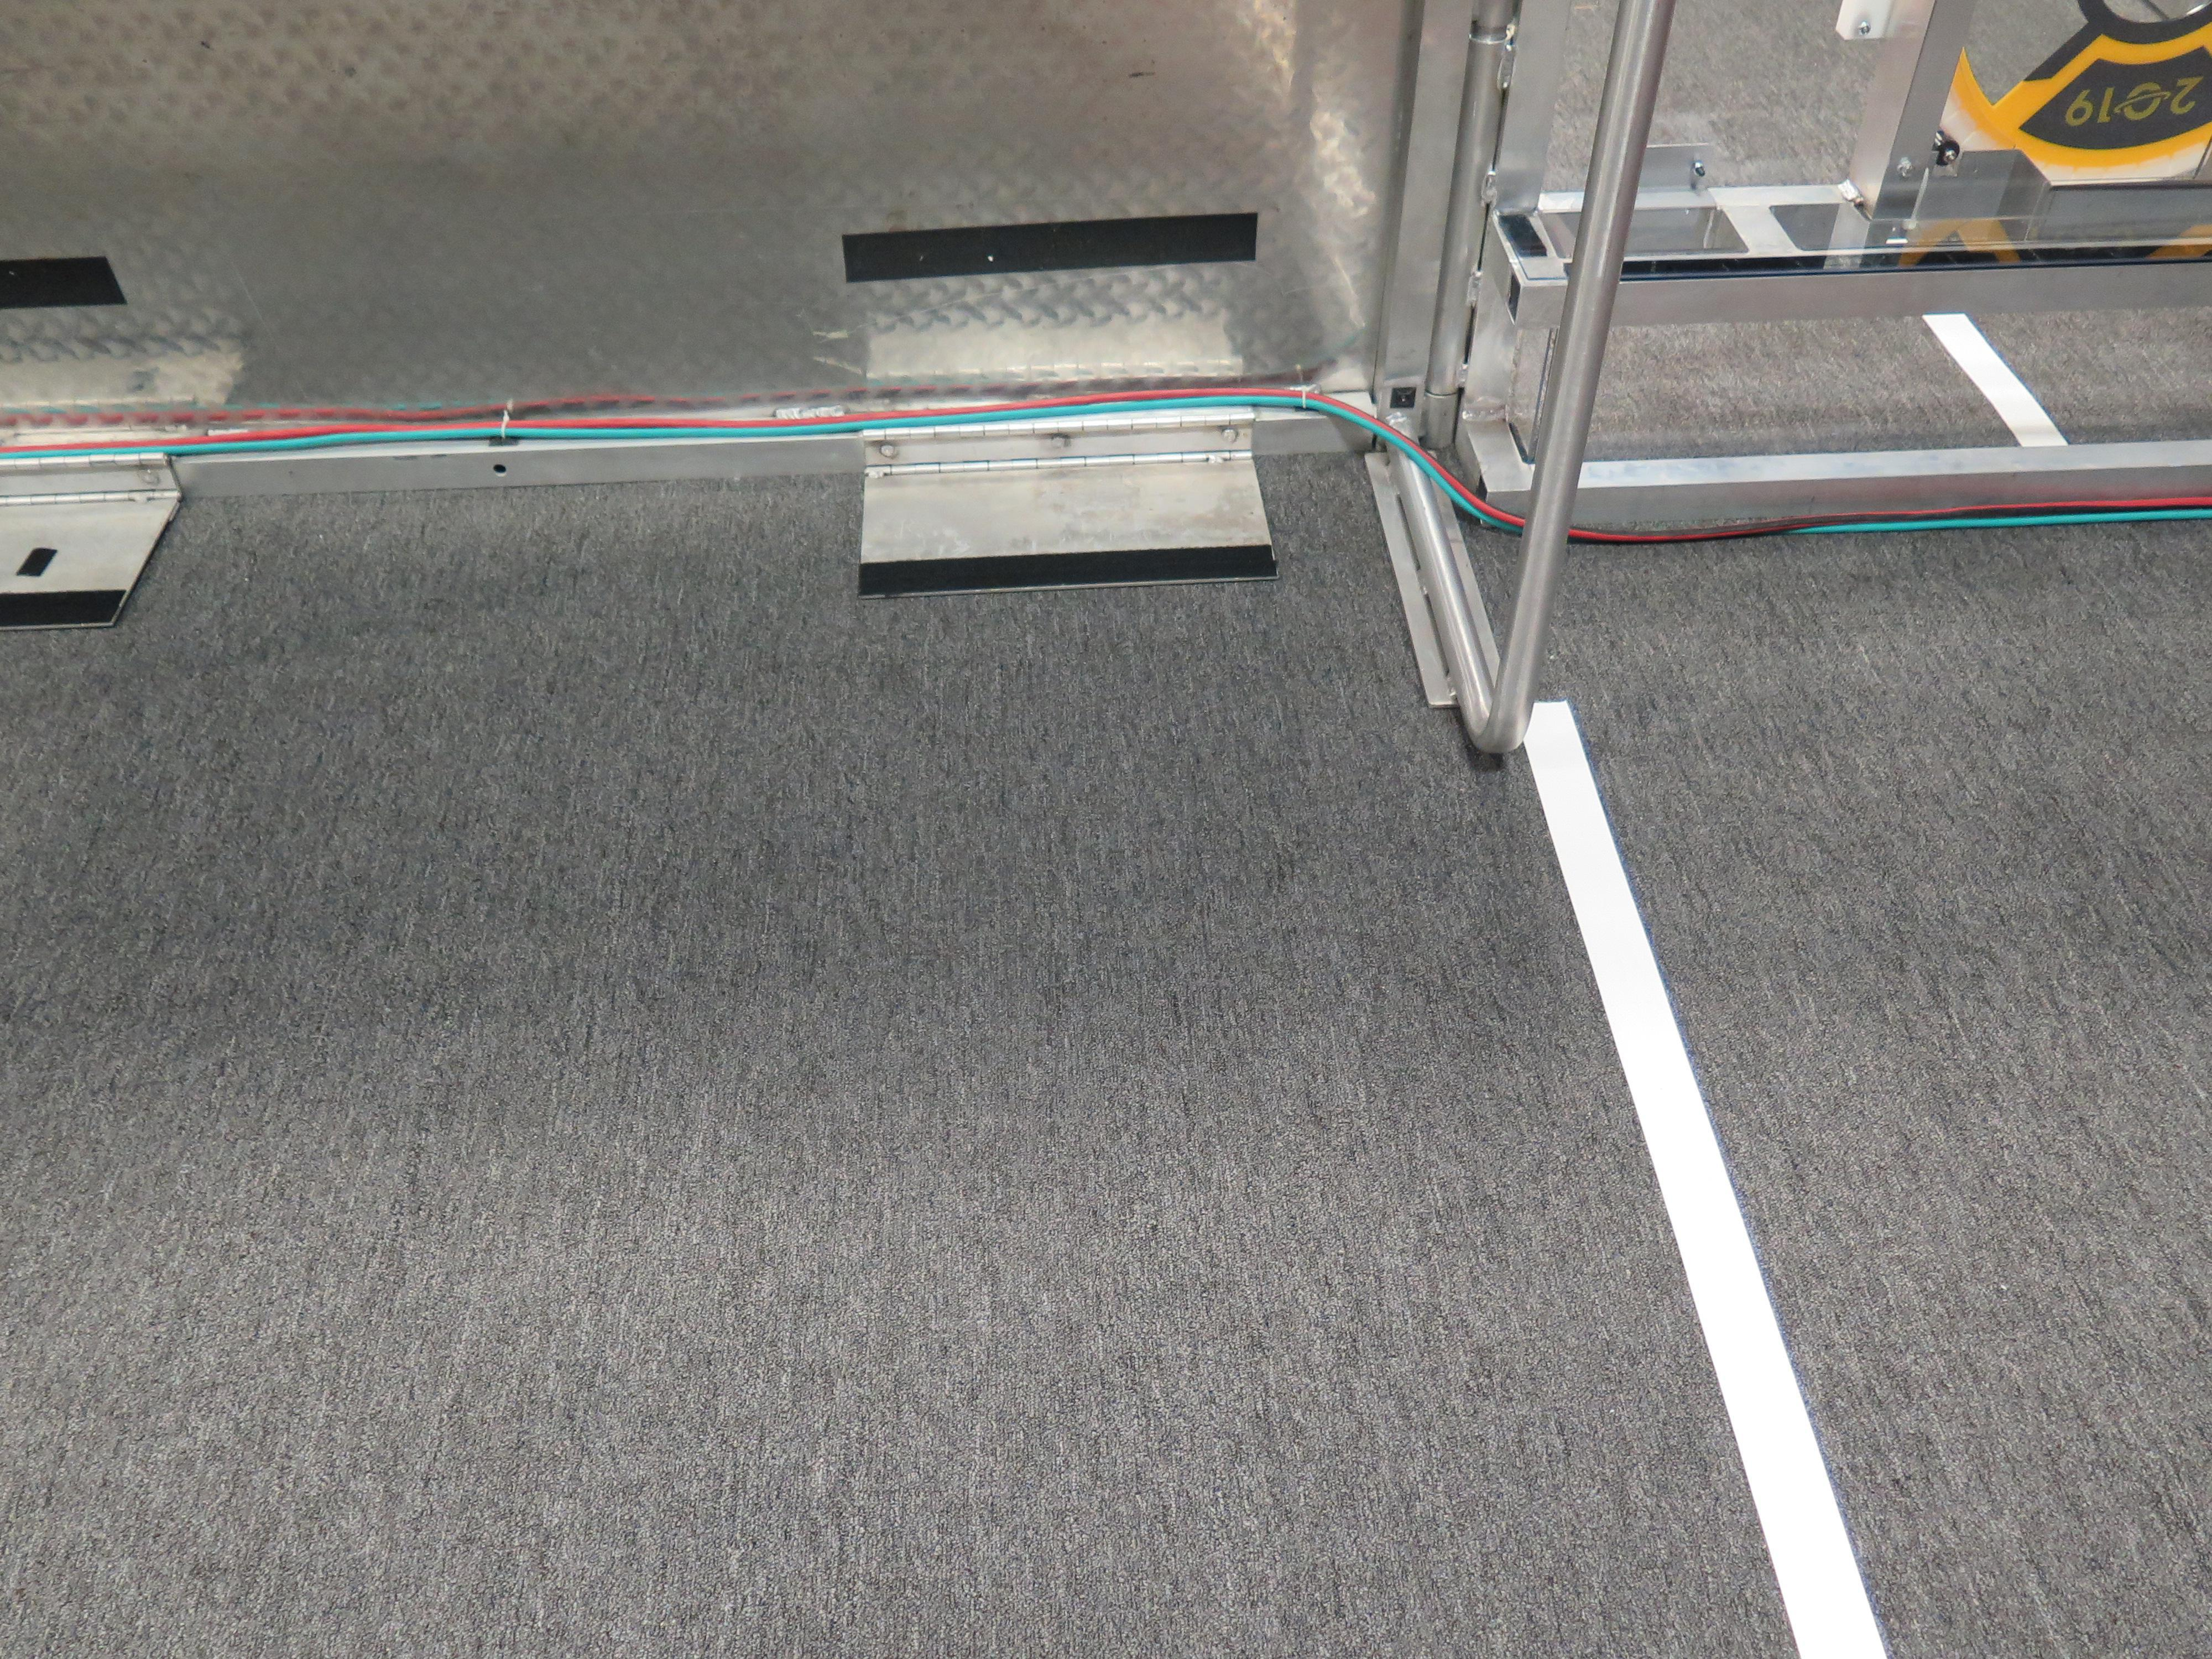Hatch: (1933, 0, 2212, 190)
